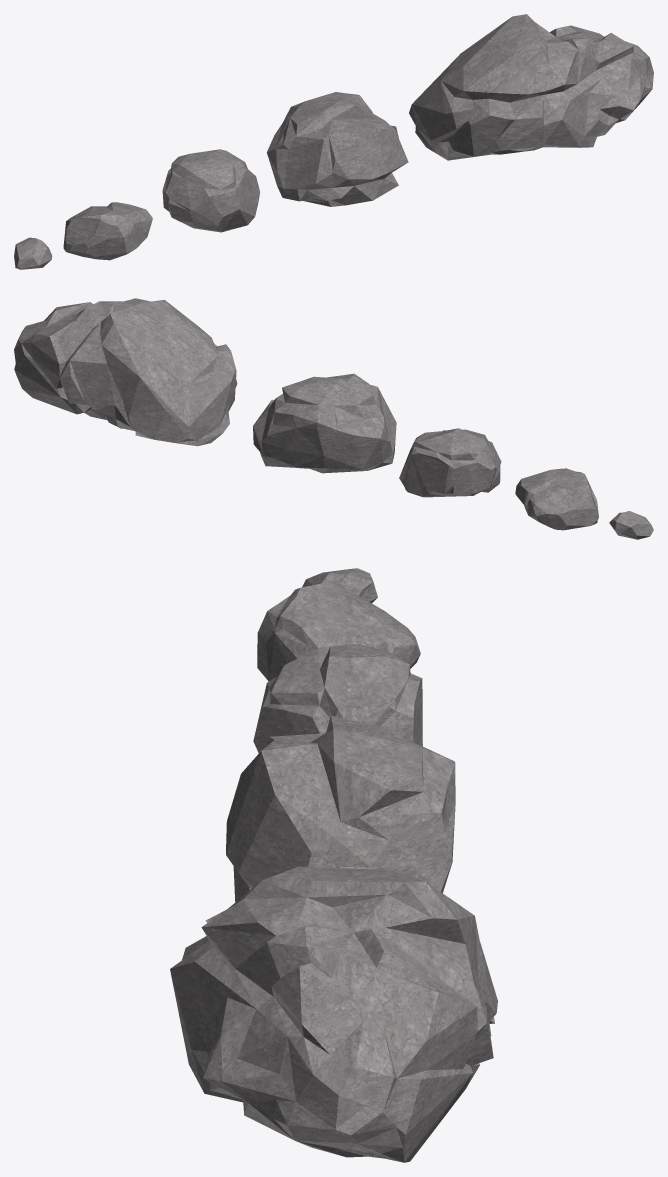
Rendered from Rock1.FBX.
The picture shows the model from 3 angles, top to bottom: view 1: azimuth 30°, elevation 25°; view 2: azimuth 150°, elevation 25°; view 3: azimuth 270°, elevation 25°; orthographic projection. The views are drawn at different scales.
Parts seen in each view (by area): view 1: Rock5, Rock4, Rock3, Rock2, Rock1; view 2: Rock5, Rock4, Rock3, Rock2, Rock1; view 3: Rock5, Rock4, Rock3, Rock2, Rock1.
Part boxes in pixels (<box>): Rock5: <box>409,14,653,160</box>; Rock4: <box>267,92,408,206</box>; Rock3: <box>162,149,259,232</box>; Rock2: <box>63,202,152,260</box>; Rock1: <box>14,237,52,269</box>; Rock5: <box>14,298,237,446</box>; Rock4: <box>253,373,396,473</box>; Rock3: <box>399,428,501,497</box>; Rock2: <box>515,468,598,530</box>; Rock1: <box>609,511,653,539</box>; Rock5: <box>170,866,497,1162</box>; Rock4: <box>226,715,455,902</box>; Rock3: <box>253,644,422,753</box>; Rock2: <box>257,582,420,681</box>; Rock1: <box>302,568,377,603</box>.
Bounding box in the file's own units: 1638 × 278 × 368.
